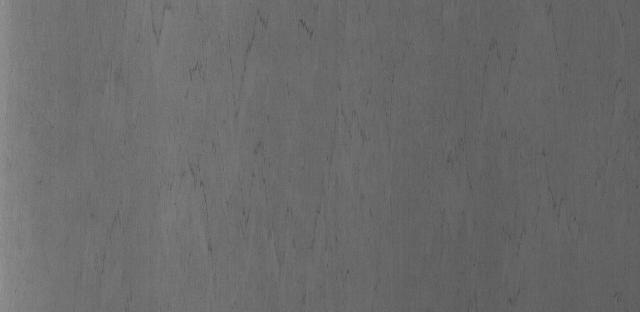silk_spot: (153, 8, 407, 220)
